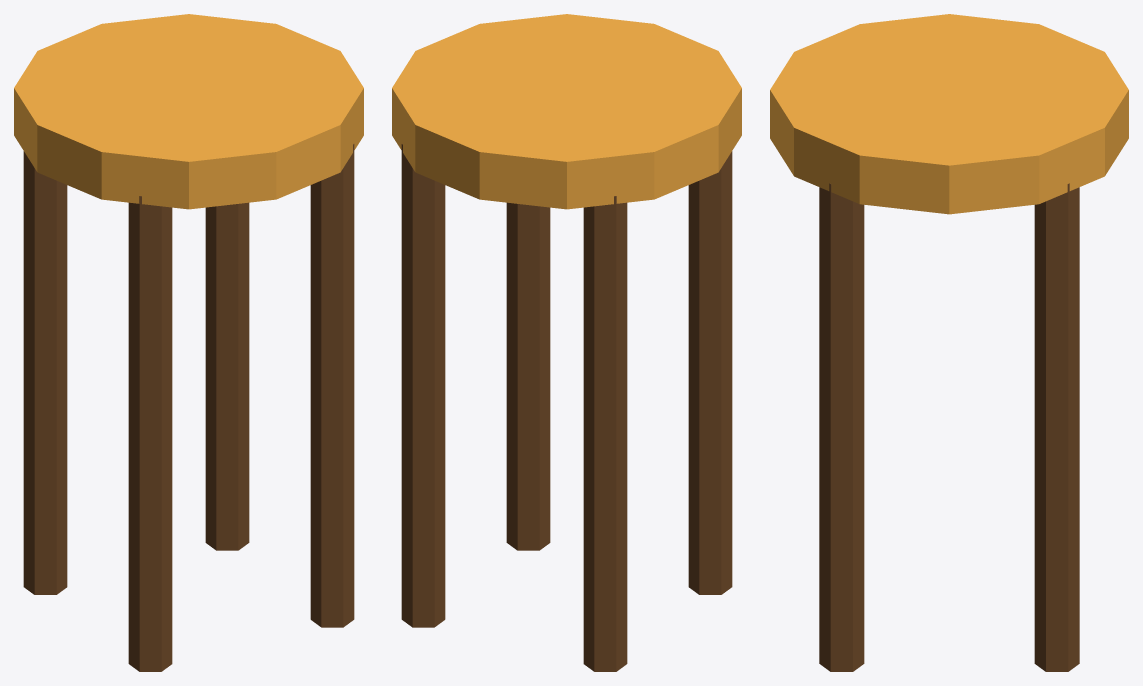
The model's file is Kitchen_Stool.fbx.
3 views of the same model, side by side, from view 1: azimuth 30°, elevation 25°; view 2: azimuth 150°, elevation 25°; view 3: azimuth 270°, elevation 25° (orthographic). The views are drawn at different scales.
Parts seen in each view (by area): view 1: Stool; view 2: Stool; view 3: Stool.
Part boxes in pixels (bbox=[...]): Stool: bbox=[14, 14, 363, 671]; Stool: bbox=[392, 14, 741, 671]; Stool: bbox=[770, 14, 1128, 671].
Size of the model in its own units: 0.4 by 0.65 by 0.4.
